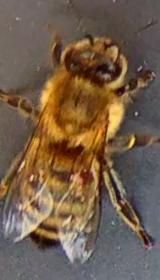varroa_mite: (66, 166, 96, 188)
